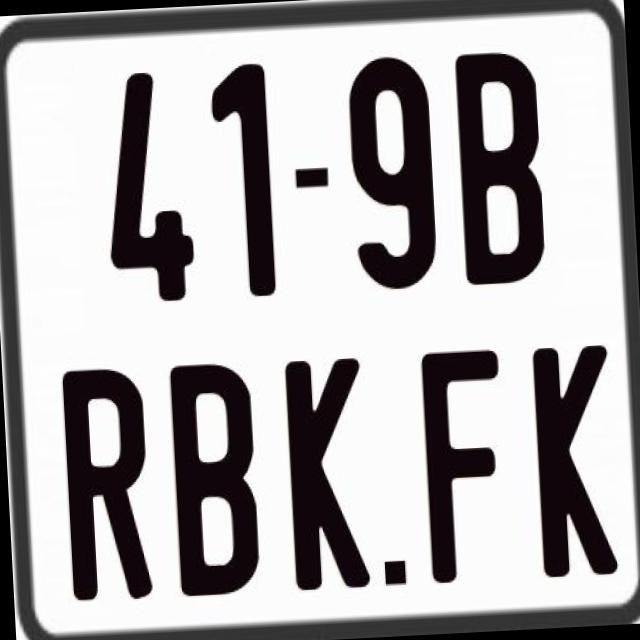1: (209, 61, 280, 304)
4: (100, 69, 202, 308)
9: (344, 51, 440, 288)
B: (452, 46, 548, 281), (166, 358, 257, 598)
F: (418, 346, 510, 590)
K: (284, 358, 372, 597), (530, 342, 618, 576)
R: (62, 368, 156, 607)
